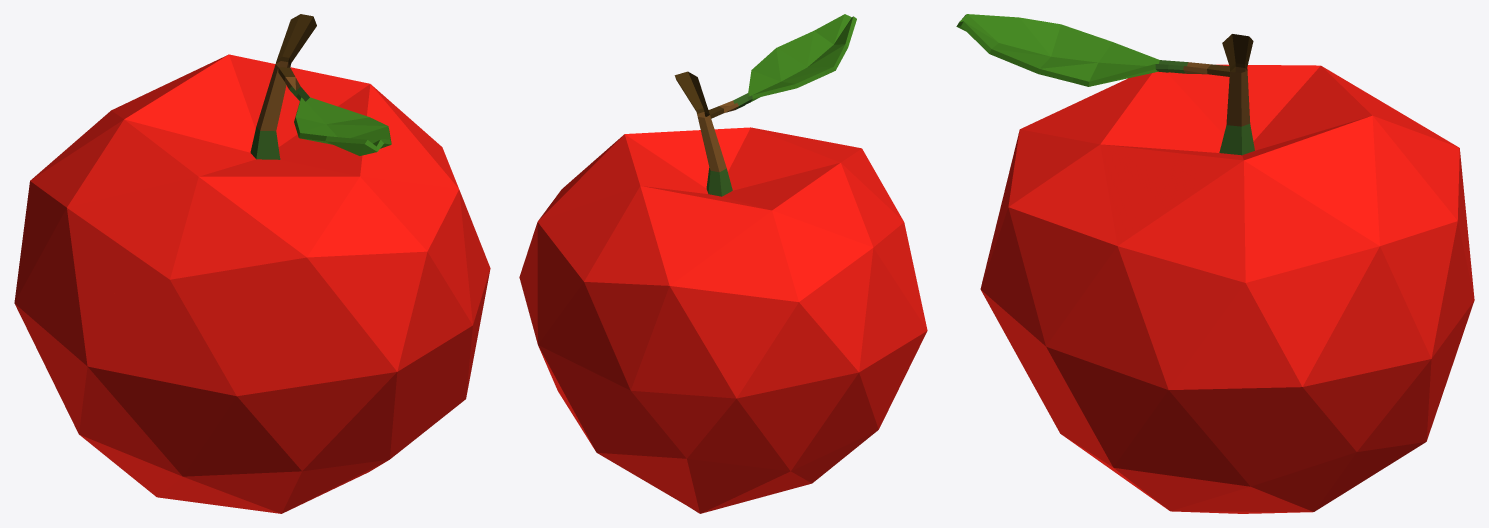
The model's file is apple_s.fbx.
The picture shows the model from 3 angles, left to right: view 1: azimuth 30°, elevation 25°; view 2: azimuth 150°, elevation 25°; view 3: azimuth 270°, elevation 25°; orthographic projection. The views are drawn at different scales.
Visible parts, largest first — view 1: Icosphere.003, Icosphere.005, Icosphere.002, Icosphere.006, Icosphere.004; view 2: Icosphere.004, Icosphere.006, Icosphere.002, Icosphere.005, Icosphere.003; view 3: Icosphere.002, Icosphere.006, Icosphere.005, Icosphere.004, Icosphere.003.
Part boxes in pixels (x1=…): Icosphere.003: x1=197, y1=120, x2=476, y2=482; Icosphere.005: x1=87, y1=92, x2=490, y2=513; Icosphere.002: x1=43, y1=14, x2=452, y2=508; Icosphere.006: x1=14, y1=55, x2=344, y2=391; Icosphere.004: x1=25, y1=54, x2=232, y2=219; Icosphere.004: x1=528, y1=184, x2=819, y2=513; Icosphere.006: x1=519, y1=143, x2=885, y2=513; Icosphere.002: x1=558, y1=71, x2=927, y2=489; Icosphere.005: x1=691, y1=63, x2=926, y2=327; Icosphere.003: x1=759, y1=14, x2=885, y2=189; Icosphere.002: x1=1167, y1=34, x2=1266, y2=513; Icosphere.006: x1=1266, y1=65, x2=1368, y2=513; Icosphere.005: x1=1070, y1=29, x2=1168, y2=509; Icosphere.004: x1=1367, y1=94, x2=1474, y2=478; Icosphere.003: x1=956, y1=14, x2=1073, y2=440.
Size of the model in its own units: 200 by 221 by 208.
